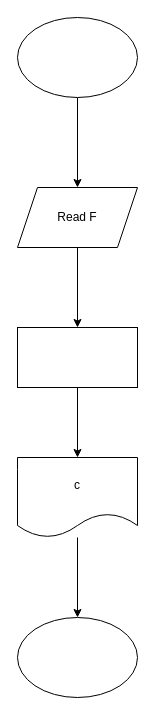
This 155x715 diagram has some shape labels left out. The shapes that lost their labels are listed below. From the top down, each one's centre as x and y in pixels, then its label:
(77,57): START
(77,357): c= (F-32 )* 5/9
